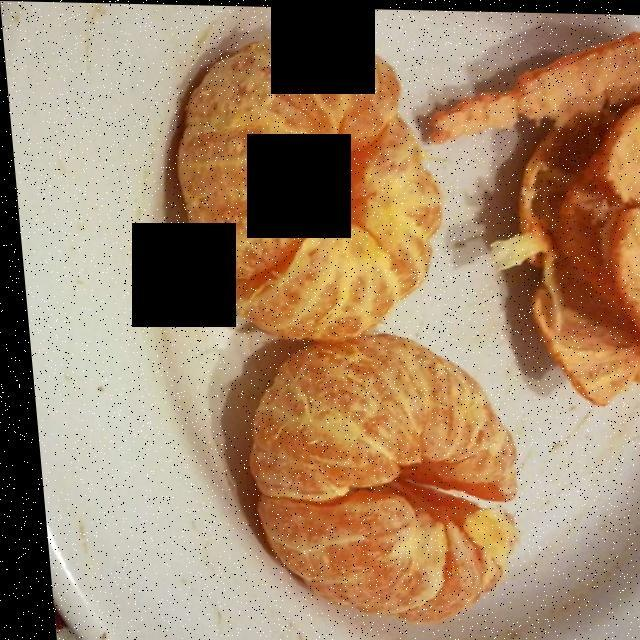mandarine: (186, 46, 502, 605)
